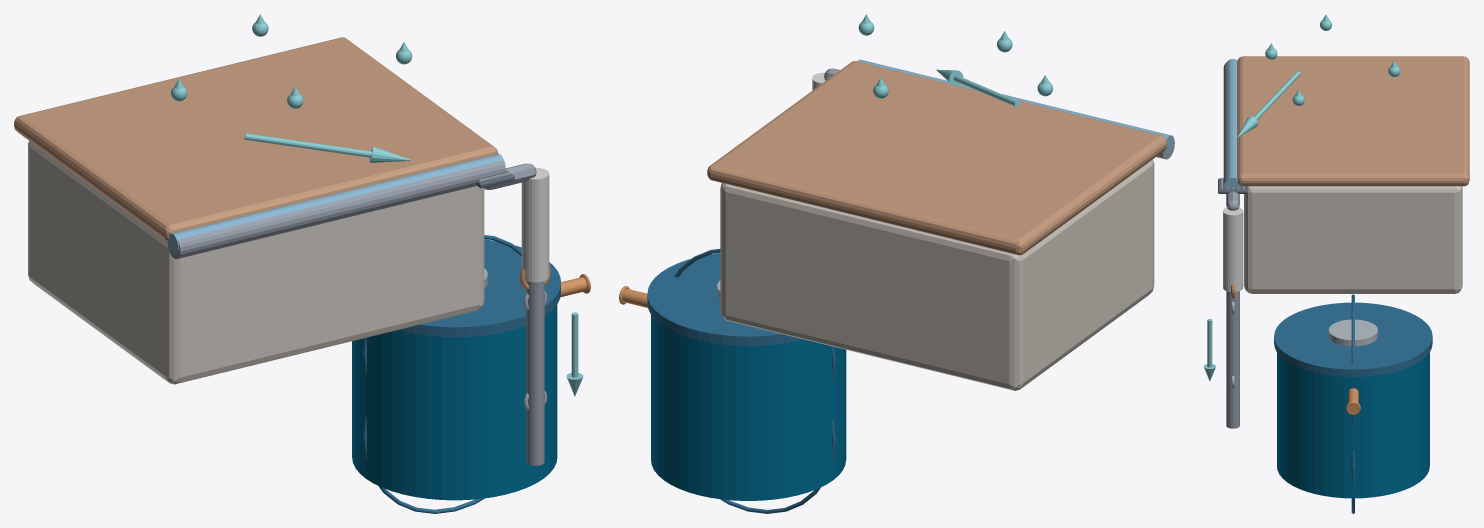
The picture shows the model from 3 angles, left to right: view 1: azimuth 30°, elevation 25°; view 2: azimuth 150°, elevation 25°; view 3: azimuth 270°, elevation 25°; orthographic projection. The views are drawn at different scales.
Parts seen in each view (by area): view 1: part_techo, part_cisterna, part_canaletas, part_bajante, part_separador, deco_flujo; view 2: part_techo, part_cisterna, deco_flujo, part_canaletas; view 3: part_techo, part_cisterna, part_bajante, part_canaletas, part_separador, deco_flujo, part_rebosadero.
Part boxes in pixels (x1=…): part_techo: x1=14, y1=37, x2=498, y2=384; part_cisterna: x1=352, y1=235, x2=560, y2=513; part_canaletas: x1=167, y1=154, x2=505, y2=259; part_bajante: x1=483, y1=163, x2=547, y2=465; part_separador: x1=520, y1=167, x2=550, y2=290; deco_flujo: x1=171, y1=14, x2=583, y2=396; part_techo: x1=707, y1=61, x2=1167, y2=390; part_cisterna: x1=647, y1=249, x2=846, y2=513; deco_flujo: x1=858, y1=14, x2=1052, y2=107; part_canaletas: x1=857, y1=59, x2=1174, y2=159; part_techo: x1=1237, y1=56, x2=1469, y2=293; part_cisterna: x1=1274, y1=294, x2=1432, y2=513; part_bajante: x1=1226, y1=191, x2=1239, y2=428; part_canaletas: x1=1223, y1=59, x2=1242, y2=188; part_separador: x1=1223, y1=207, x2=1243, y2=299; deco_flujo: x1=1203, y1=14, x2=1400, y2=381; part_rebosadero: x1=1346, y1=388, x2=1360, y2=414.
Bounding box in the file's own units: 3.13 × 3.11 × 1.95.
